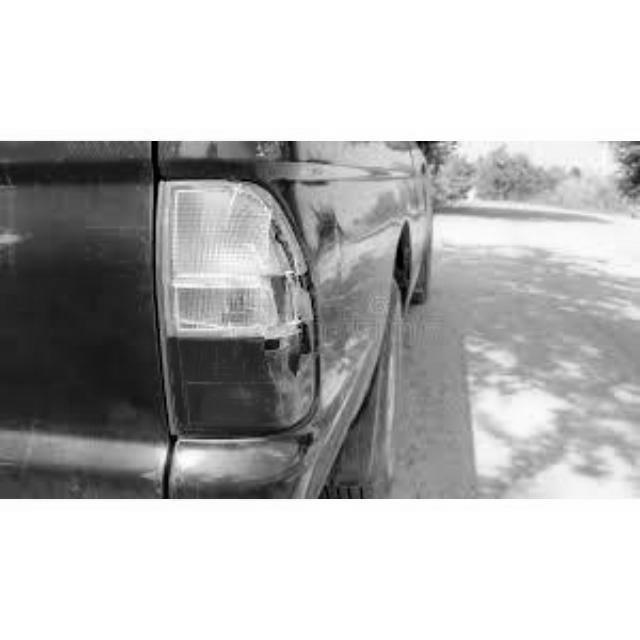Taillight-Damage: (122, 169, 333, 459)
